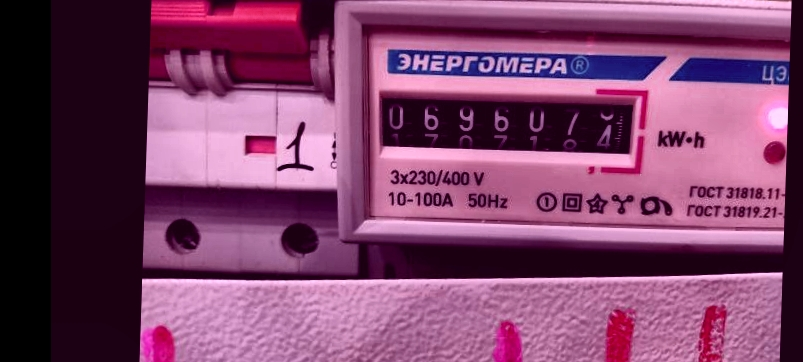0: (385, 100, 407, 131), (527, 104, 547, 134)
4: (594, 121, 614, 151)
6: (491, 103, 512, 134), (421, 102, 441, 131)
7: (562, 104, 581, 136)
9: (456, 103, 477, 132)
screen: (366, 74, 652, 175)
